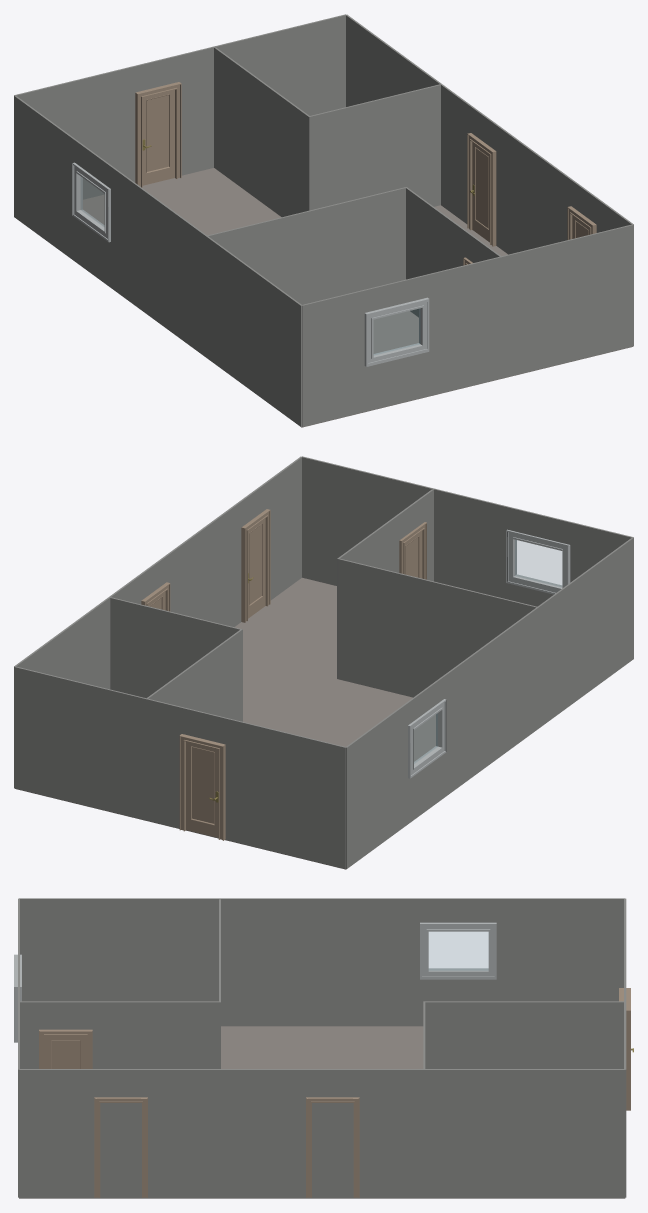
Rendered from Interior_casa.fbx.
3 renders of one model, top to bottom at view 1: azimuth 30°, elevation 25°; view 2: azimuth 150°, elevation 25°; view 3: azimuth 270°, elevation 25°, orthographic. The views are drawn at different scales.
Visible parts, largest first — view 1: Paredes, Chan, Porta_01, Porta_04; view 2: Paredes, Chan, Porta_01, Porta_03, Porta_02; view 3: Paredes, Chan, Porta_02.
Part boxes in pixels (<box>): Paredes: <box>14,14,633,426</box>; Chan: <box>83,168,633,427</box>; Porta_01: <box>142,90,174,185</box>; Porta_04: <box>472,142,489,242</box>; Paredes: <box>14,456,633,868</box>; Chan: <box>14,577,435,869</box>; Porta_01: <box>186,741,218,837</box>; Porta_03: <box>248,518,265,618</box>; Porta_02: <box>404,531,422,578</box>; Paredes: <box>14,898,630,1198</box>; Chan: <box>19,1026,624,1198</box>; Porta_02: <box>45,1035,86,1068</box>.
Size of the model in its own units: 1016 by 353 by 1534.
